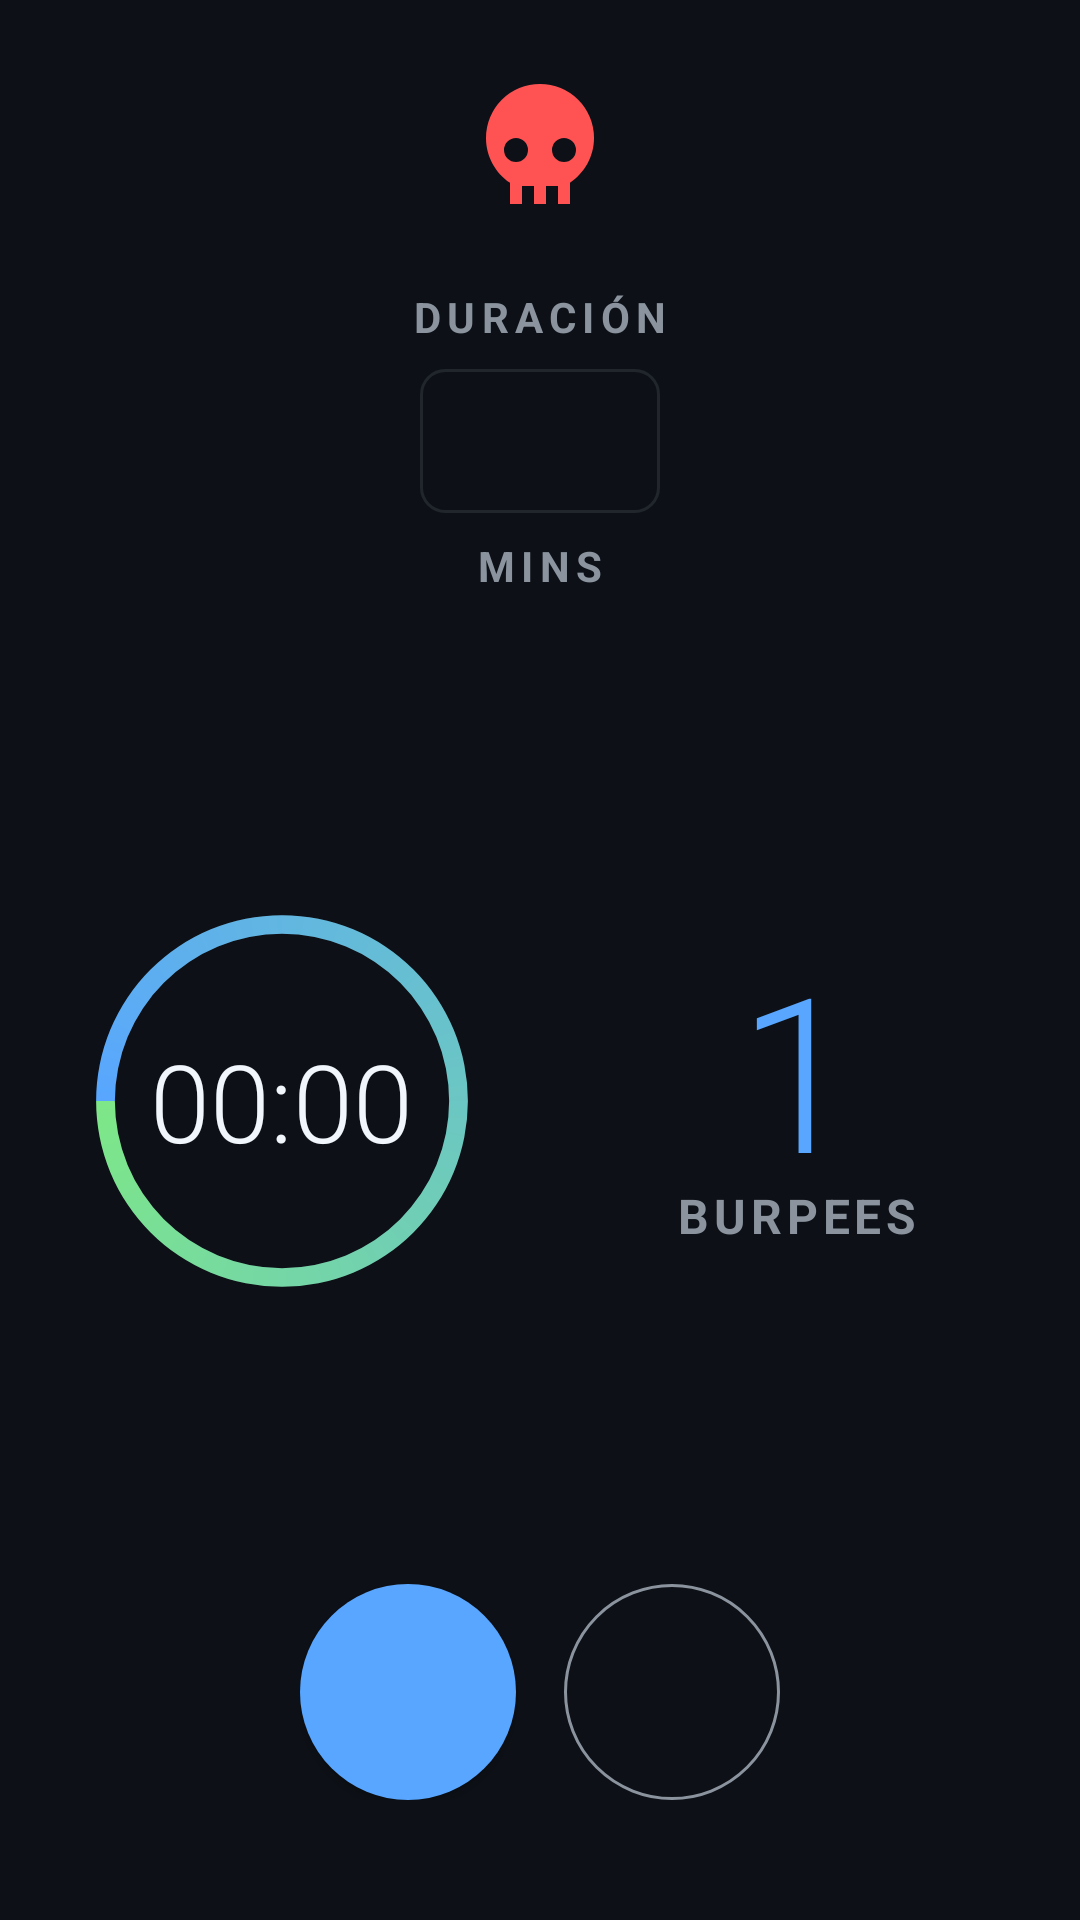

Where to tap for icons on this 1080px x 1920px app screen, as (x,y):
Muerte por Burpees: (540,144)
